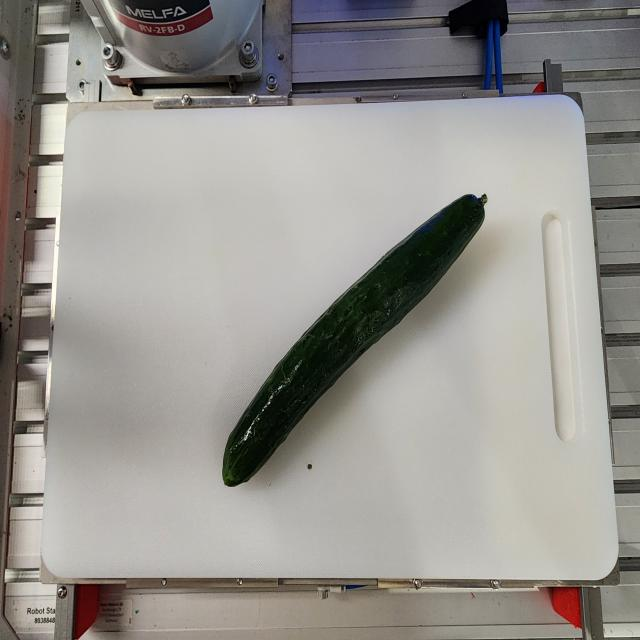cucumber: (221, 191, 488, 487)
